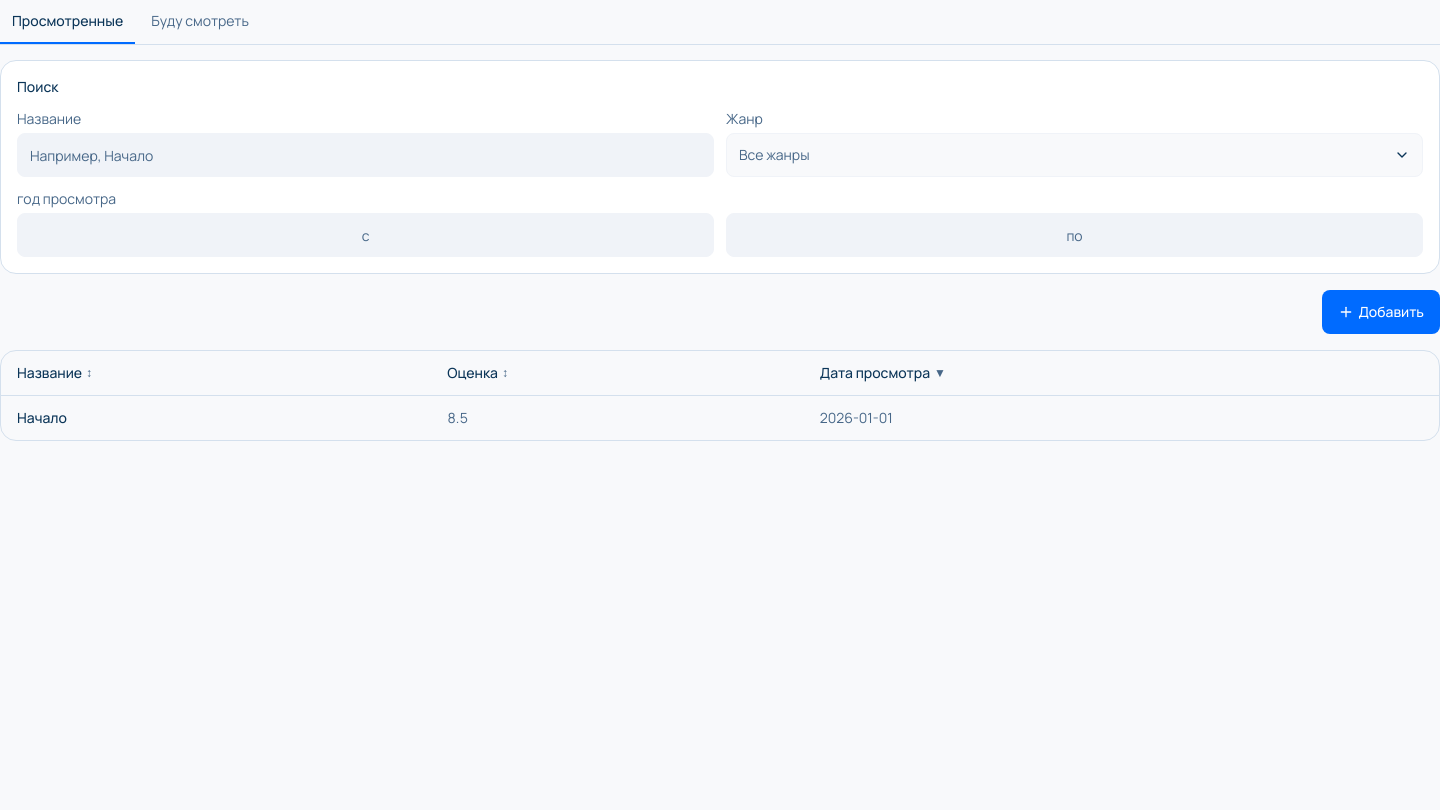
Test: MyFilmsView watch-later tab › rates an entry, moving it out of the list
Click the tab "Буду смотреть" at {"x": 200, "y": 22}, box [139,0,261,44]
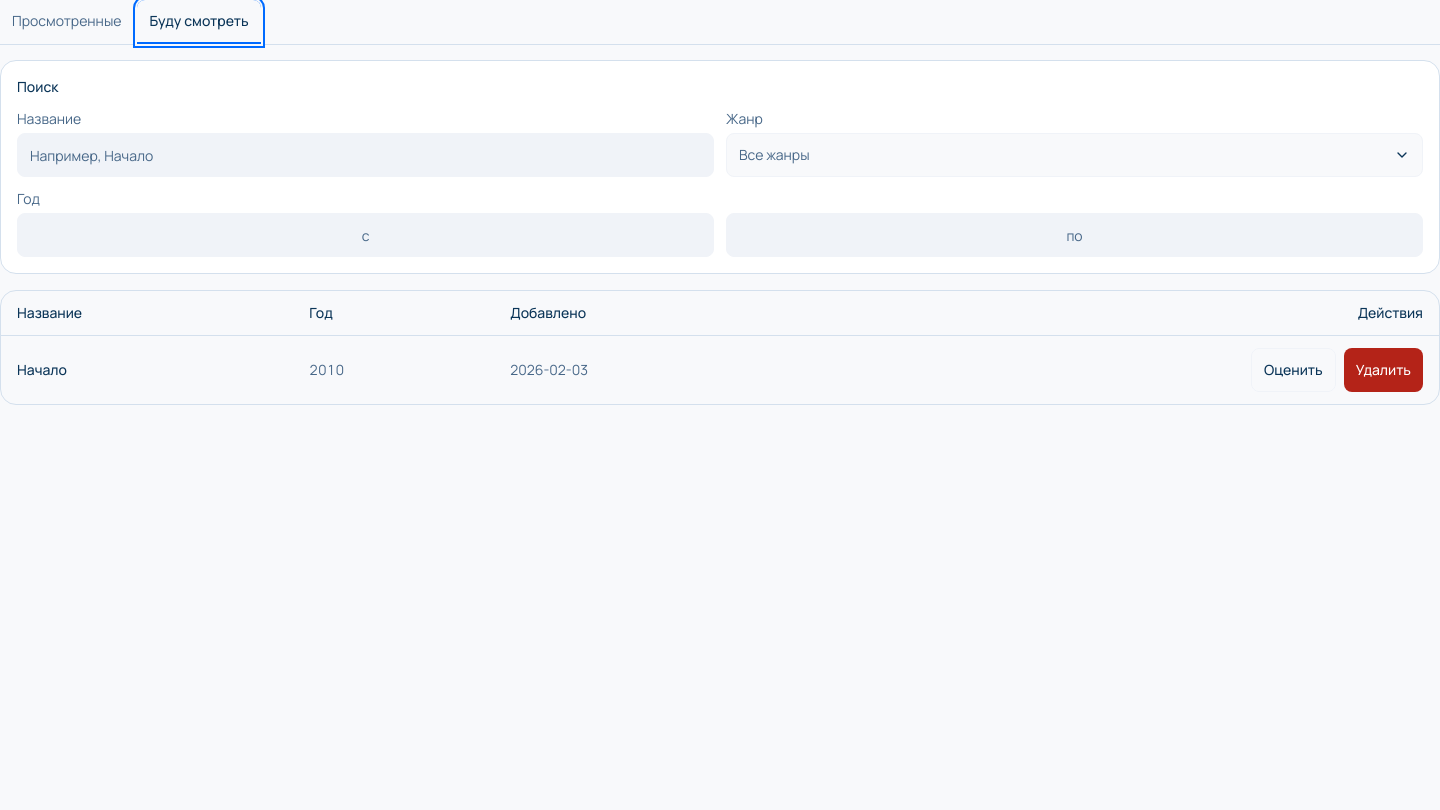
Click the button "Оценить" at {"x": 1293, "y": 370}, box [1251,348,1336,392]
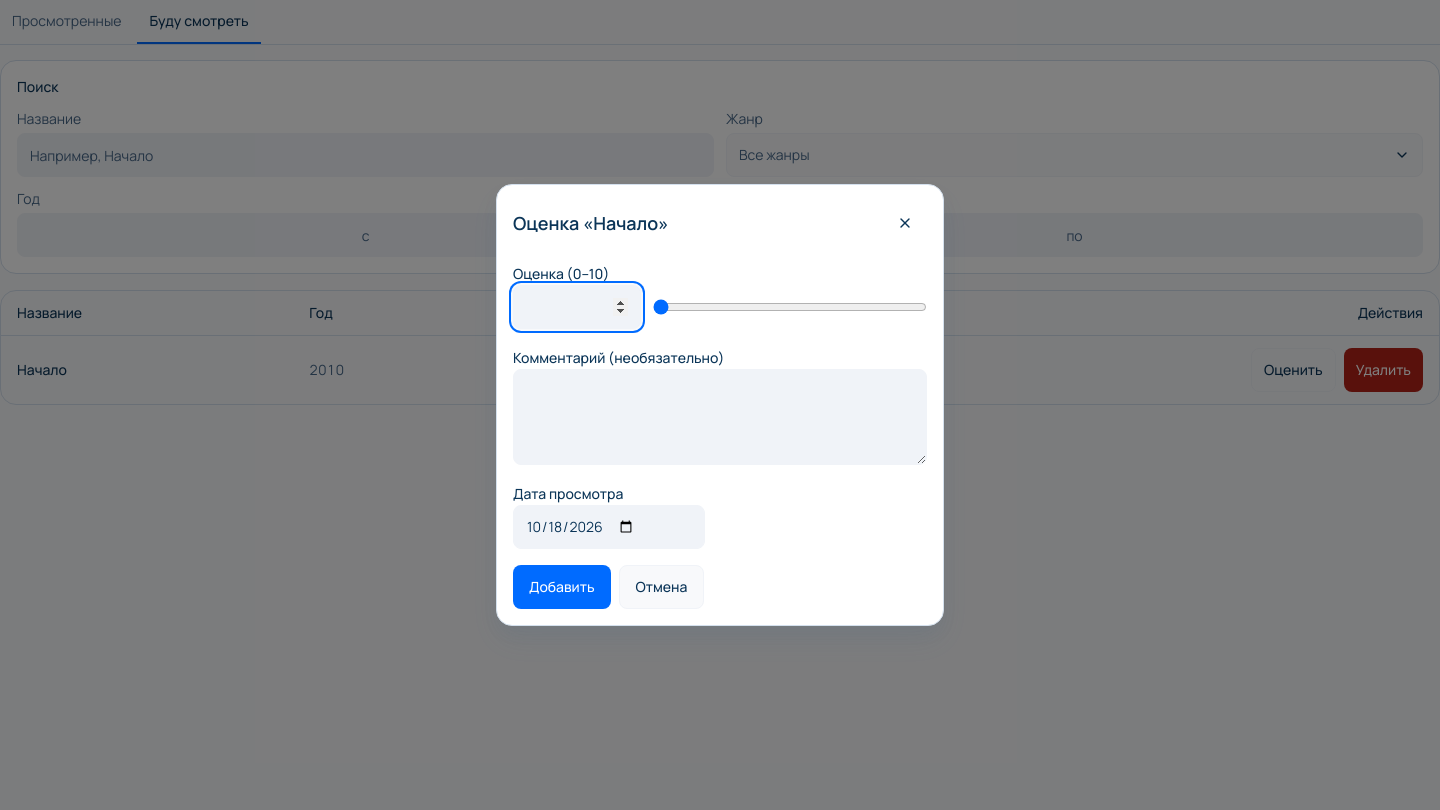
Type "9" into the number field labelled "Оценка (0–10)" at {"x": 577, "y": 307}, box [513,285,641,329]
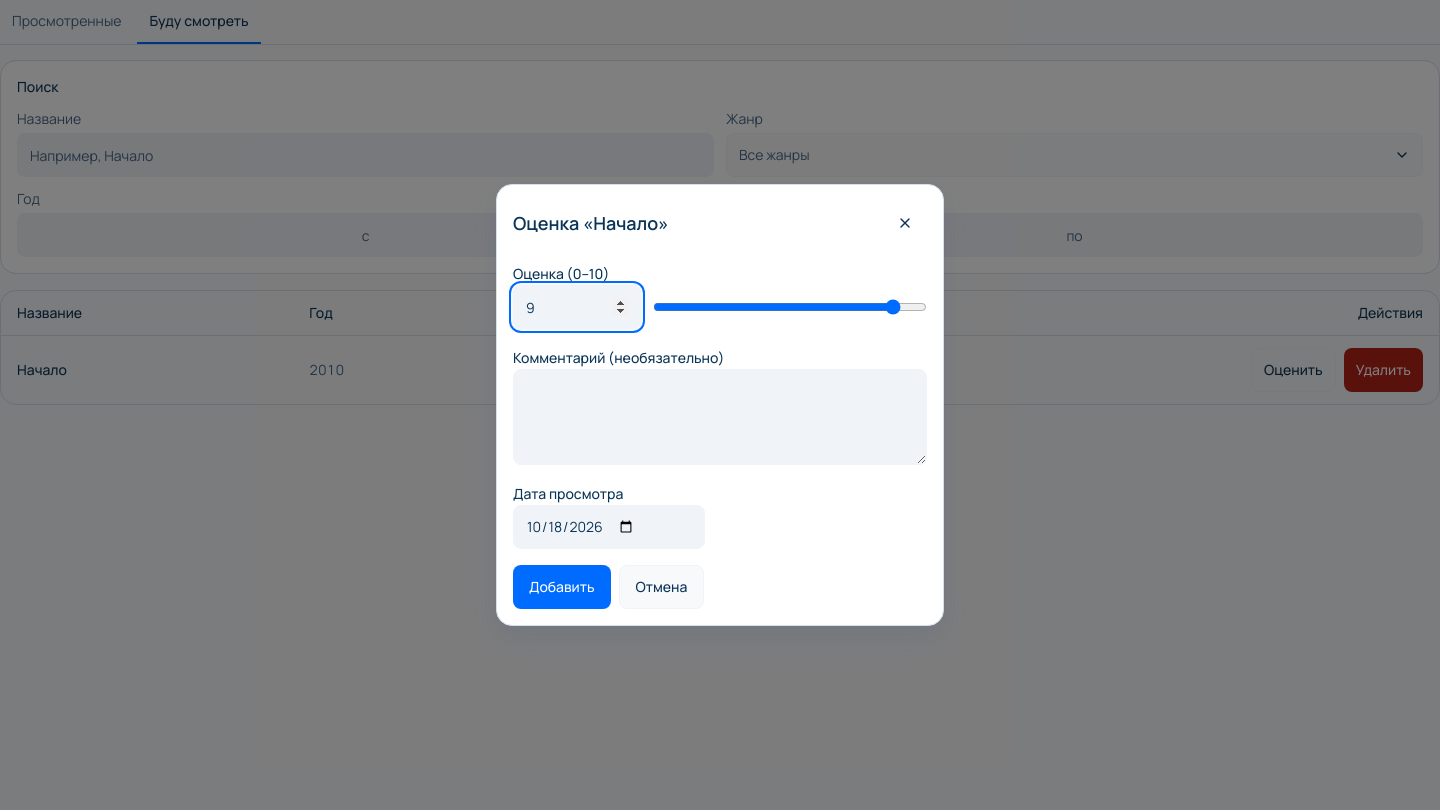
Click the button "Добавить" at {"x": 562, "y": 587}, box [513,565,610,609]
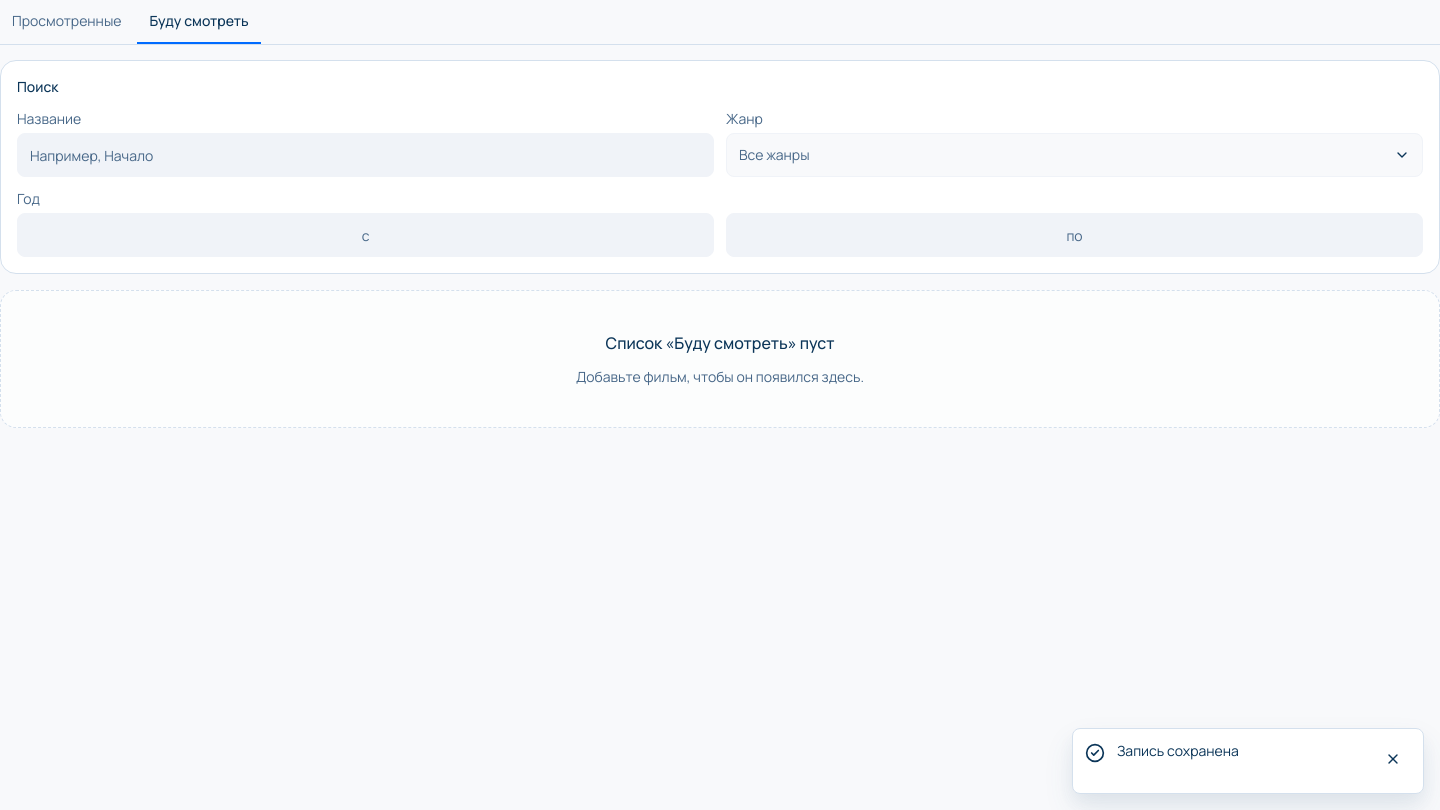
Result: the text "Список «Буду смотреть» пуст" is shown at [606,331,834,355]
